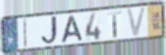4: (84, 11, 104, 42)
A: (60, 15, 85, 44)
I: (23, 18, 28, 49)
J: (40, 14, 61, 47)
T: (107, 10, 123, 39)
V: (125, 6, 148, 39)
